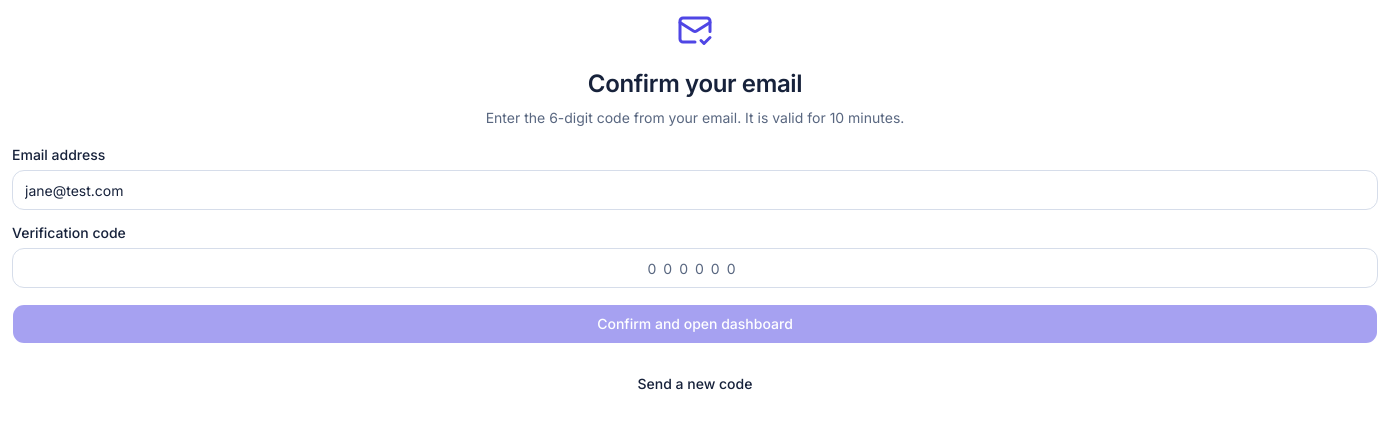
keeps an invalid code on the form without creating a session
Step 1. Type "111111" into the field labelled "Verification code" → (695, 268), box [12,248,1378,288]
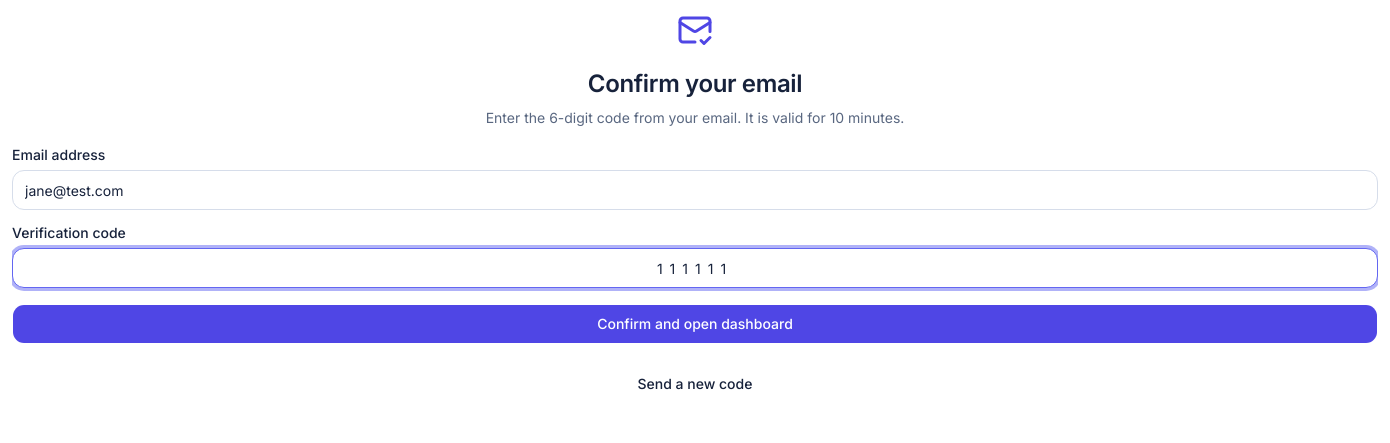
Step 2. Click the button "Confirm and open dashboard" → (695, 324), box [12,304,1378,344]
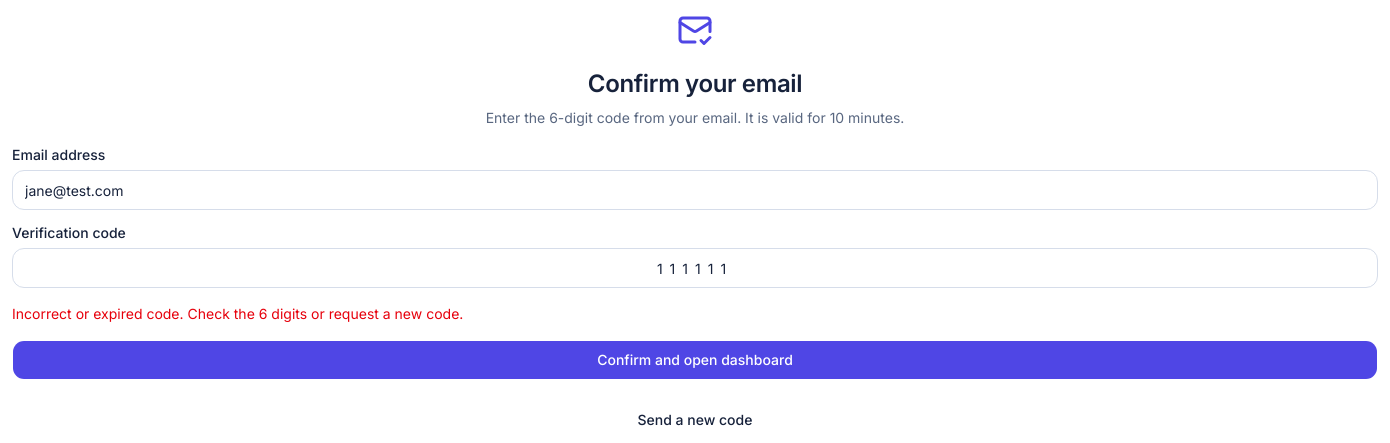
Expected: the message shows "Incorrect or expired code", [12,305,463,322]
